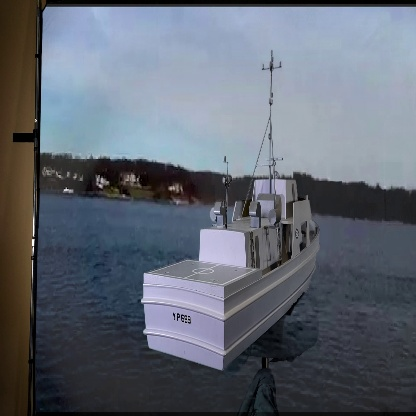YP689: (142, 51, 321, 370)
